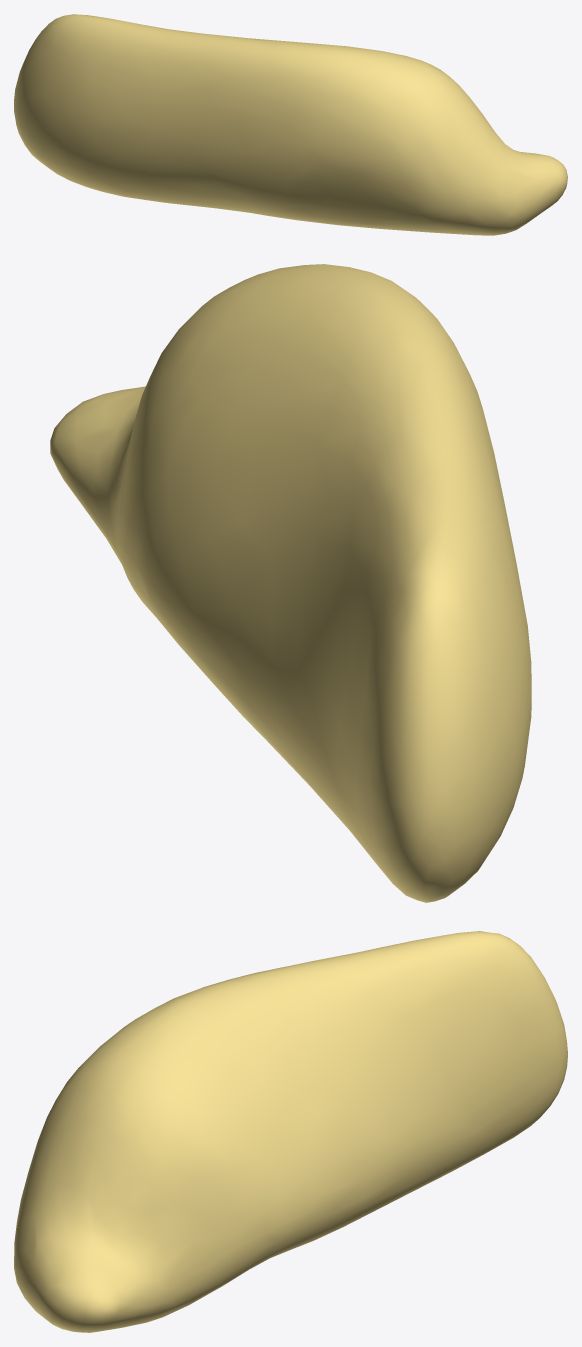
File: fma72858_mm2915m.glb
3 views of the same model, one above another, from view 1: azimuth 30°, elevation 25°; view 2: azimuth 150°, elevation 25°; view 3: azimuth 270°, elevation 25° (orthographic). The views are drawn at different scales.
Parts seen in each view (by area): view 1: FMA72858_MM2915M; view 2: FMA72858_MM2915M; view 3: FMA72858_MM2915M.
Boxes of the visible parts, box(x1,y1,x2,y2) form: FMA72858_MM2915M: box(14, 14, 567, 235); FMA72858_MM2915M: box(50, 264, 531, 902); FMA72858_MM2915M: box(14, 931, 567, 1332).
Bounding box in the file's own units: 0.0154 × 0.00725 × 0.0149.
